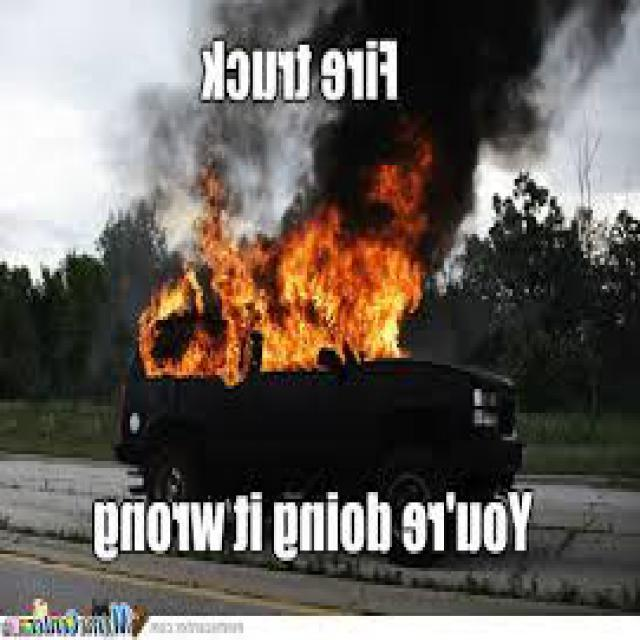Fire: (134, 220, 428, 359)
Smoke: (308, 0, 612, 189)
